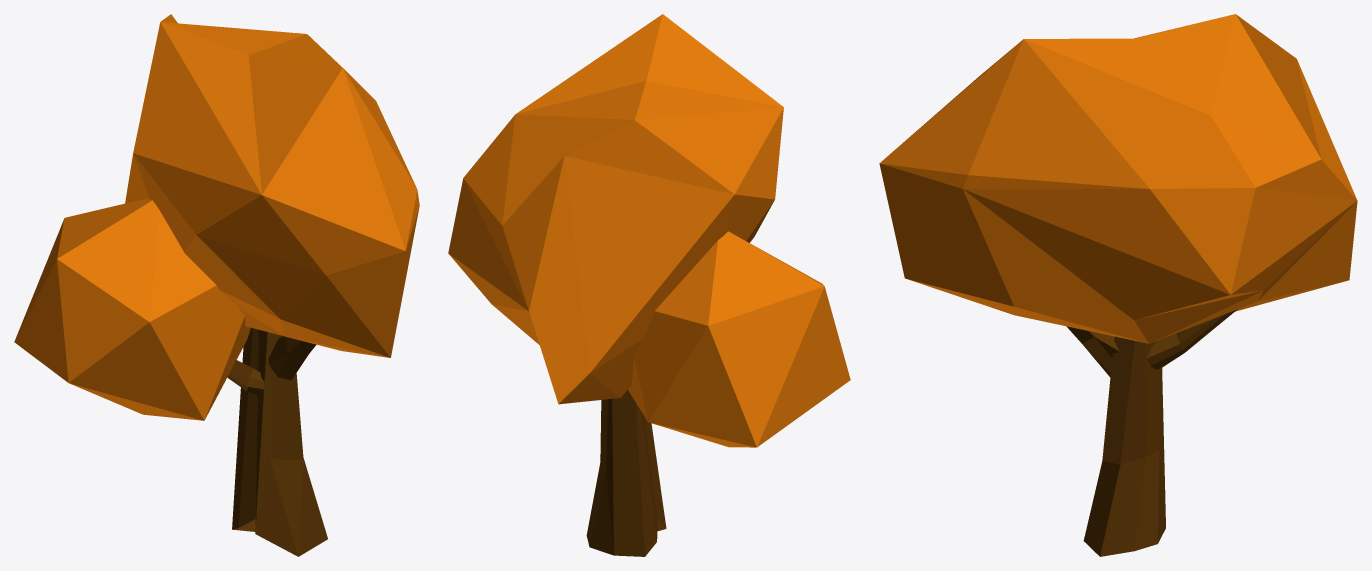
The model's file is Bush#6.fbx.
3 views of the same model, side by side, from view 1: azimuth 30°, elevation 25°; view 2: azimuth 150°, elevation 25°; view 3: azimuth 270°, elevation 25° (orthographic). The views are drawn at different scales.
Parts seen in each view (by area): view 1: Bush#6; view 2: Bush#6; view 3: Bush#6.
Part boxes in pixels (left/top/right/bottom): Bush#6: left=14, top=14, right=419, bottom=556; Bush#6: left=448, top=14, right=850, bottom=556; Bush#6: left=879, top=14, right=1357, bottom=556.
Size of the model in its own units: 125 by 173 by 147.
